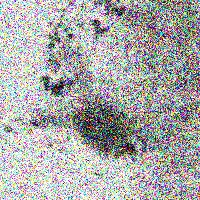patches: (67, 99, 128, 160)
